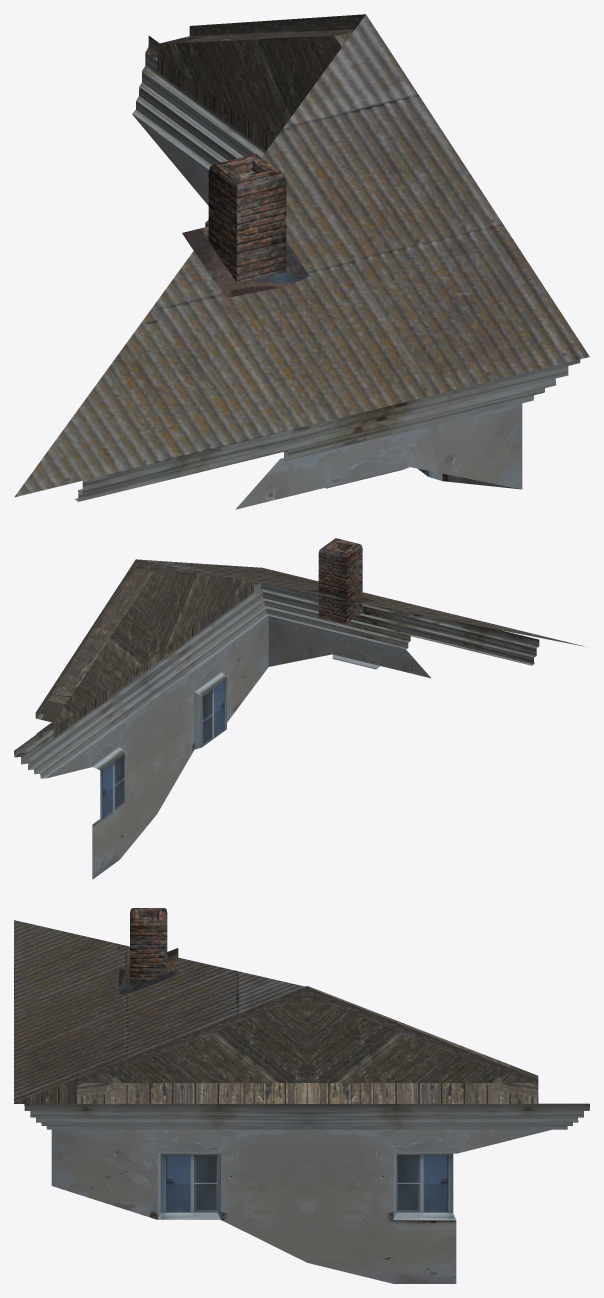
Rendered from House_03_02.fbx.
The picture shows the model from 3 angles, top to bottom: view 1: azimuth 30°, elevation 25°; view 2: azimuth 150°, elevation 25°; view 3: azimuth 270°, elevation 25°; orthographic projection. The views are drawn at different scales.
Parts seen in each view (by area): view 1: Дом2.002; view 2: Дом2.002; view 3: Дом2.002.
Boxes of the visible parts, x1,y1,x2,y2 form: Дом2.002: [14, 14, 589, 509]; Дом2.002: [14, 538, 586, 879]; Дом2.002: [14, 908, 589, 1283].
Size of the model in its own units: 17.25 by 13.5 by 22.82.
